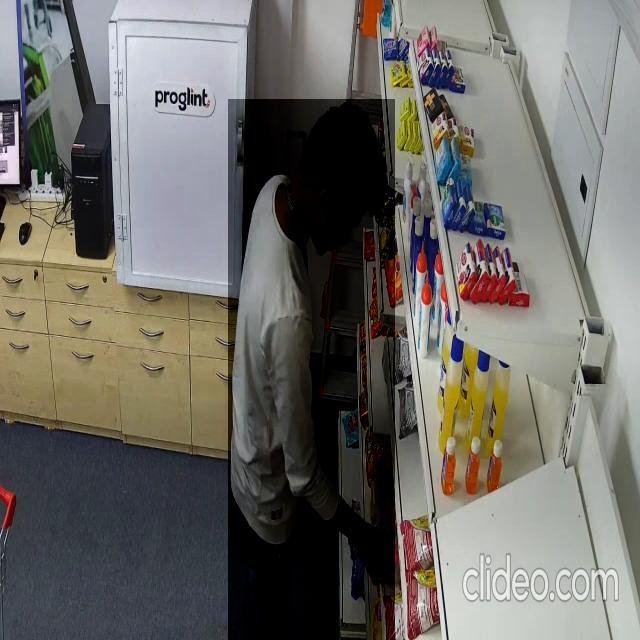normal: (228, 99, 395, 640)
